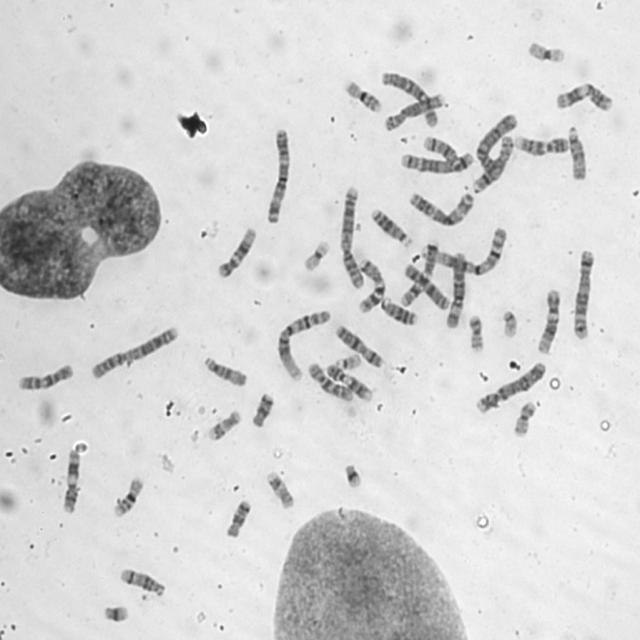A1: (419, 223, 509, 277), (274, 304, 333, 382)
A2: (87, 320, 182, 380), (336, 181, 368, 290)
A3: (263, 123, 293, 225), (405, 186, 476, 228)
B4: (472, 356, 548, 414), (474, 109, 520, 177)
B5: (570, 244, 598, 341), (397, 146, 476, 175)
C10: (304, 357, 355, 403), (15, 359, 76, 392)
C11: (553, 78, 615, 113), (59, 444, 82, 514)
C12: (214, 222, 259, 279), (533, 284, 563, 355)
C6: (378, 67, 440, 128), (442, 248, 468, 329)
C7: (396, 237, 439, 307), (354, 253, 388, 313)
C8: (382, 87, 446, 133), (470, 131, 514, 194)
C9: (324, 360, 374, 403), (512, 129, 570, 157)
D13: (368, 203, 414, 247), (378, 291, 419, 327)
D14: (116, 563, 166, 598), (420, 131, 461, 165)
D15: (201, 352, 249, 388), (564, 120, 589, 182)
E16: (110, 471, 146, 519), (341, 75, 385, 114)
E17: (263, 466, 297, 511), (205, 405, 243, 442)
E18: (222, 495, 253, 539), (248, 388, 276, 428)
F19: (300, 235, 332, 273), (524, 36, 567, 64)
F20: (510, 397, 539, 438), (466, 311, 486, 354)
G21: (99, 599, 131, 624), (340, 458, 365, 490)
G22: (498, 305, 520, 339), (333, 349, 363, 371)
X: (333, 320, 386, 369), (402, 260, 452, 311)
